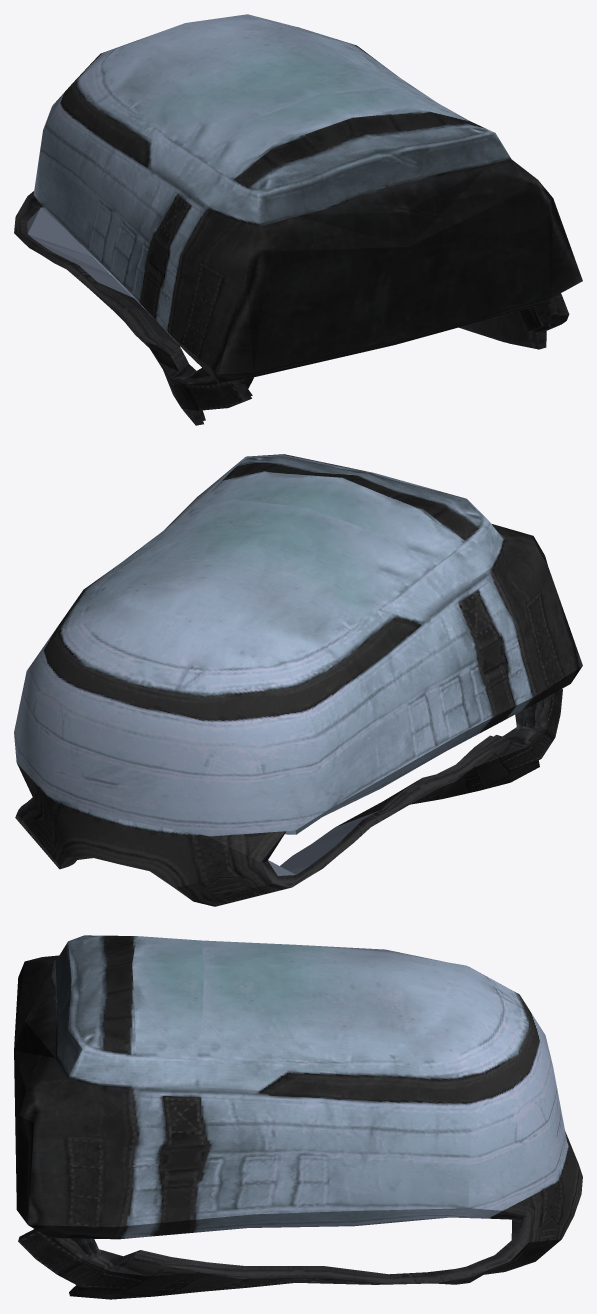
File: Bag.fbx
The picture shows the model from 3 angles, top to bottom: view 1: azimuth 30°, elevation 25°; view 2: azimuth 150°, elevation 25°; view 3: azimuth 270°, elevation 25°; orthographic projection. The views are drawn at different scales.
Parts seen in each view (by area): view 1: Mesh_0072.rip_mat0_0.001; view 2: Mesh_0072.rip_mat0_0.001; view 3: Mesh_0072.rip_mat0_0.001.
Boxes of the visible parts, left/top/right/bottom form: Mesh_0072.rip_mat0_0.001: left=14, top=14, right=582, bottom=425; Mesh_0072.rip_mat0_0.001: left=14, top=454, right=582, bottom=906; Mesh_0072.rip_mat0_0.001: left=14, top=935, right=582, bottom=1299.
Size of the model in its own units: 0.2091 by 0.1419 by 0.2719.
Materials: 1 (1 with a texture image).
